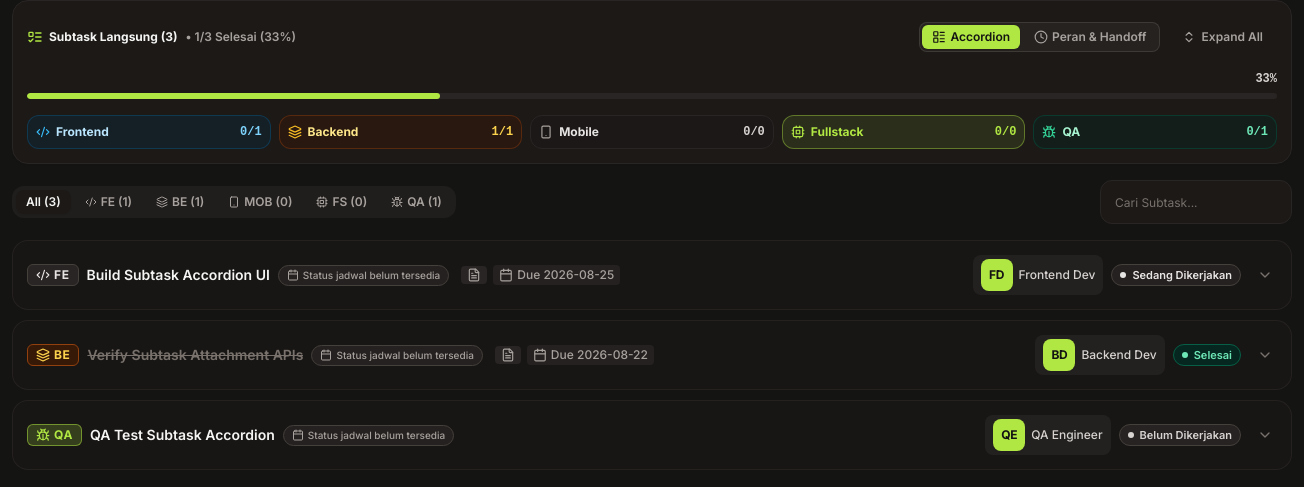
SubtaskList Organism Component › filters subtasks by delivery area when clicking area filter chips
Expected: the text "Build Subtask Accordion UI" is shown, [86,265,270,285]
Expected: the text "Verify Subtask Attachment APIs" is shown, [87,345,303,365]
Click the button "FE (1)". click: (108, 202)
box: [75,190,142,214]
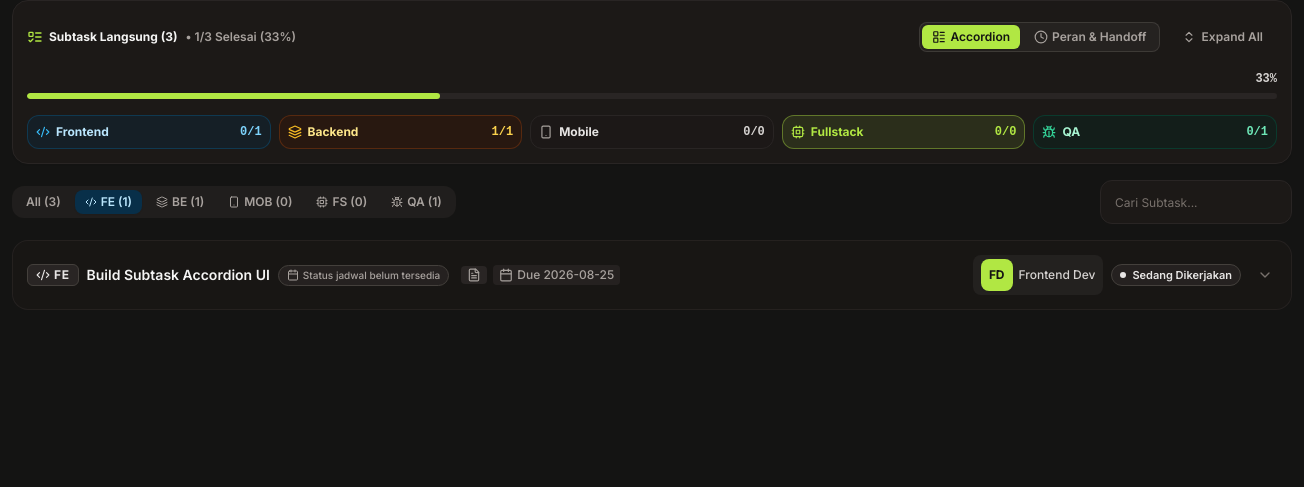
Expected: the text "Build Subtask Accordion UI" is shown, [86,265,270,285]
Expected: the button "Verify Subtask Attachment APIs" is gone
Expected: the button "QA Test Subtask Accordion" is gone
